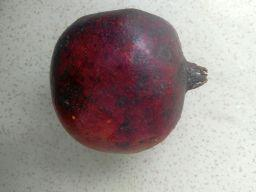pomegranate: (49, 8, 209, 154)
